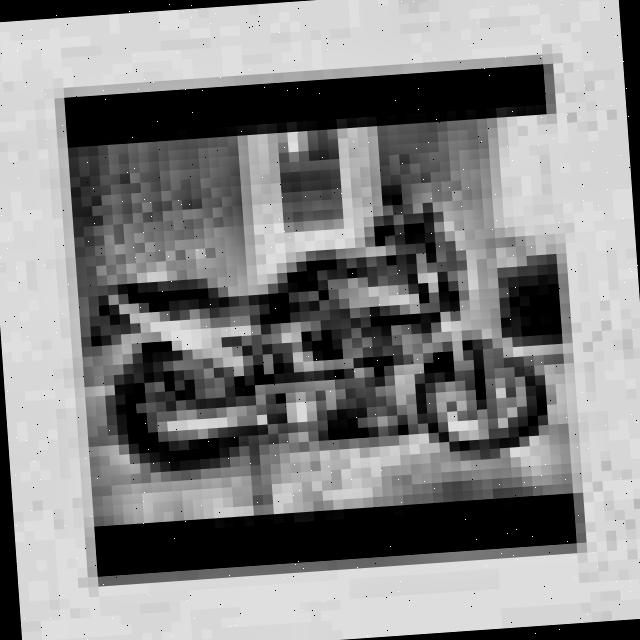mopeds: (80, 208, 567, 475)
